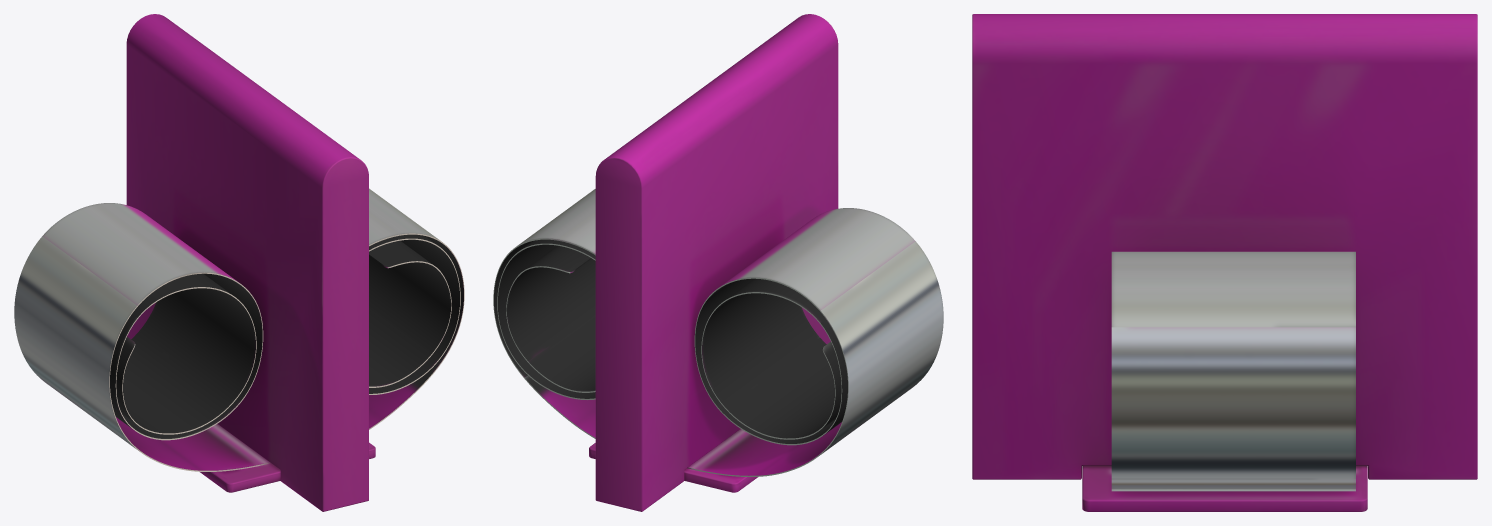
3 renders of one model, left to right at view 1: azimuth 30°, elevation 25°; view 2: azimuth 150°, elevation 25°; view 3: azimuth 270°, elevation 25°, orthographic. The views are drawn at different scales.
Parts seen in each view (by area): view 1: 21_final; view 2: 21_final; view 3: 21_final.
Boxes of the visible parts, box(x1,y1,x2,y2) form: 21_final: box(14, 14, 464, 511); 21_final: box(493, 14, 943, 511); 21_final: box(972, 14, 1477, 511).
Size of the model in its own units: 0.1514 by 0.142 by 0.1451.
Materials: 1 (1 with a texture image).
